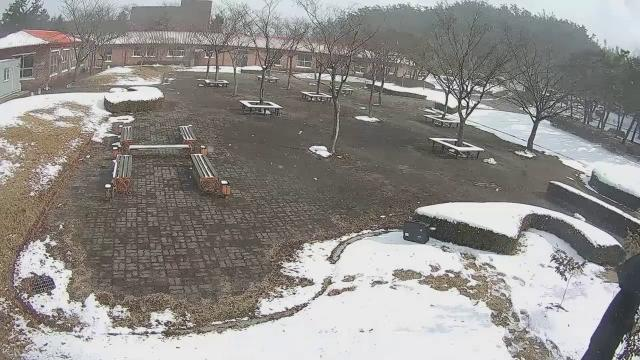bag: (402, 220, 430, 244)
